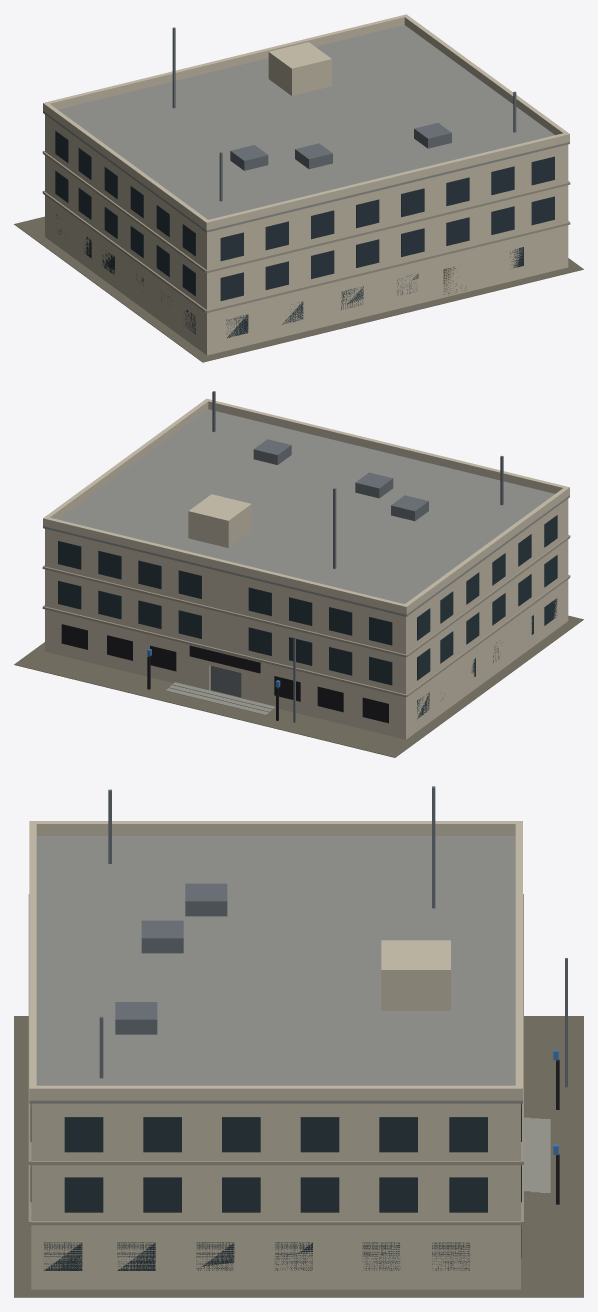
The model's file is metro_police_lod1.glb.
3 renders of one model, top to bottom at view 1: azimuth 30°, elevation 25°; view 2: azimuth 150°, elevation 25°; view 3: azimuth 270°, elevation 25°, orthographic. The views are drawn at different scales.
Visible parts, largest first — view 1: metro_police_lod1; view 2: metro_police_lod1; view 3: metro_police_lod1.
Part boxes in pixels (x1,y1,x2,y2): metro_police_lod1: (14, 14, 583, 362); metro_police_lod1: (14, 391, 583, 757); metro_police_lod1: (14, 786, 583, 1297).
Size of what is drawn, in the model's own units: 38 by 19.62 by 32.6.
2 materials, 2 textured.
